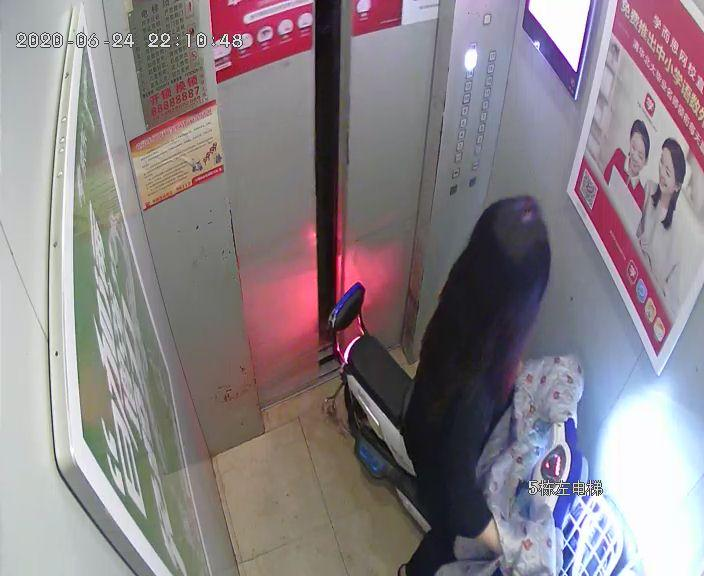Electric-bicycle: (329, 287, 634, 570)
